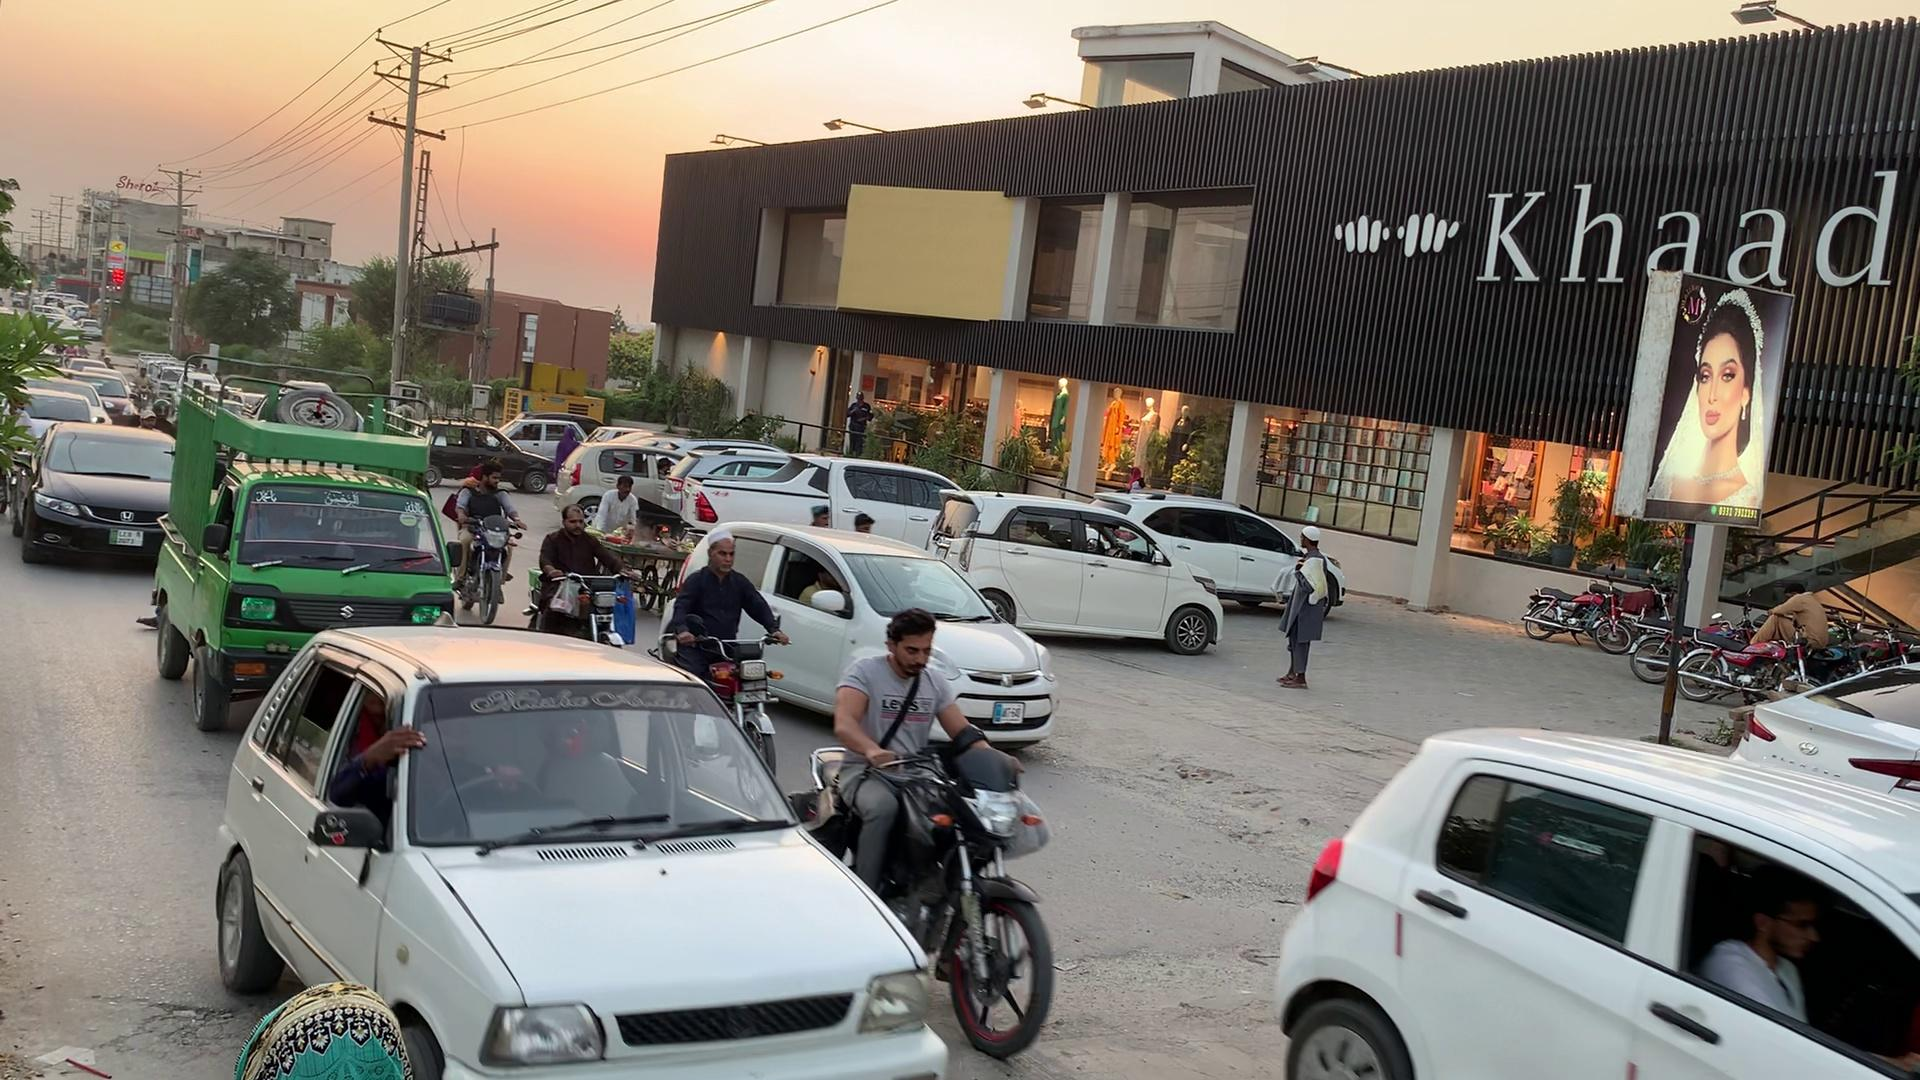windshield: (411, 680, 827, 873)
